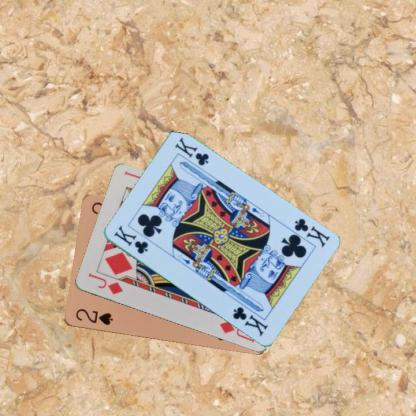2s: (73, 306, 114, 327)
Jd: (85, 270, 124, 296)
Kc: (291, 216, 331, 249), (111, 222, 149, 256)
